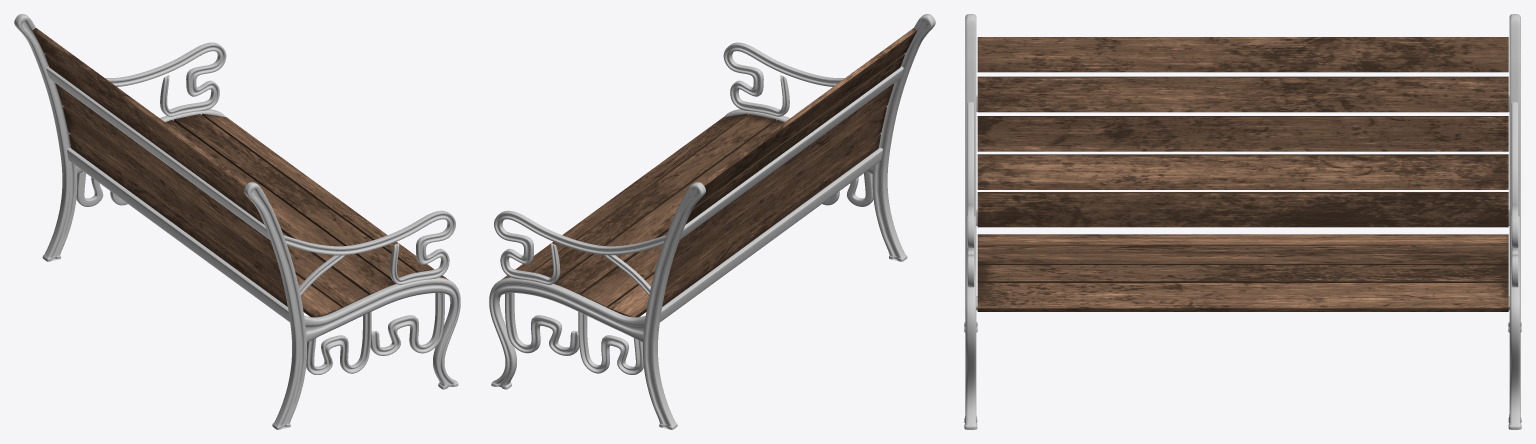
Rendered from Лавочка_красивая.fbx.
The picture shows the model from 3 angles, left to right: view 1: azimuth 30°, elevation 25°; view 2: azimuth 150°, elevation 25°; view 3: azimuth 270°, elevation 25°; orthographic projection. The views are drawn at different scales.
Visible parts, largest first — view 1: Woods, Steel; view 2: Woods, Steel; view 3: Woods, Steel.
Boxes of the visible parts, x1,y1,x2,y2 form: Woods: [32, 28, 448, 317]; Steel: [14, 14, 460, 429]; Woods: [501, 28, 917, 317]; Steel: [489, 14, 935, 429]; Woods: [977, 37, 1508, 311]; Steel: [964, 14, 1521, 429].
Size of the model in its own units: 82.65 by 92.53 by 157.
